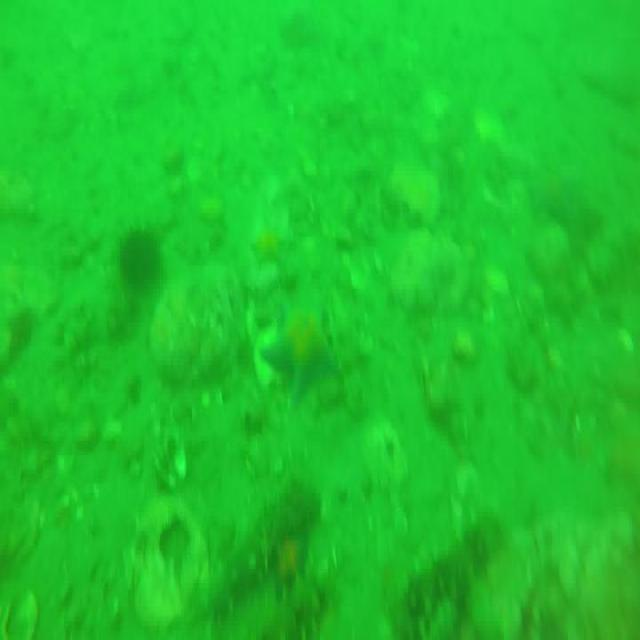echinus: (120, 221, 161, 296)
holothurian: (211, 480, 325, 602), (402, 512, 506, 640), (220, 572, 328, 640)
scallop: (242, 305, 292, 384), (0, 578, 40, 640), (150, 432, 191, 492), (473, 101, 503, 150), (485, 261, 513, 305)
starfish: (258, 295, 338, 400)
